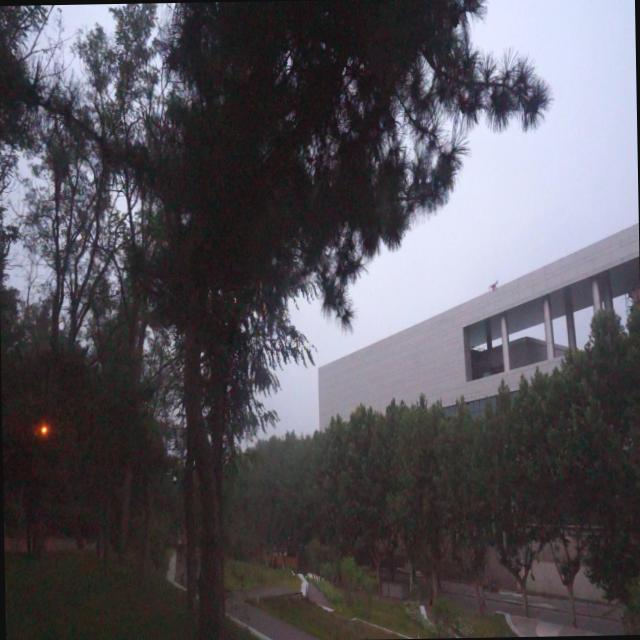drone: (488, 278, 499, 292)
